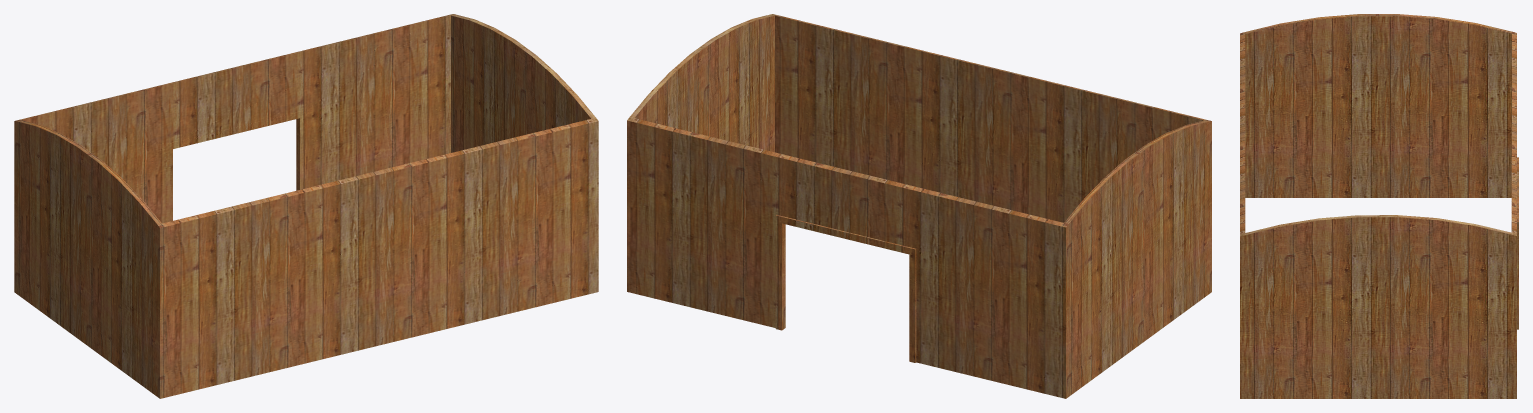
The model's file is barnwall.FBX.
3 views of the same model, side by side, from view 1: azimuth 30°, elevation 25°; view 2: azimuth 150°, elevation 25°; view 3: azimuth 270°, elevation 25° (orthographic). The views are drawn at different scales.
Visible parts, largest first — view 1: Barn; view 2: Barn; view 3: Barn.
Boxes of the visible parts, x1,y1,x2,y2 form: Barn: [14, 14, 598, 398]; Barn: [627, 14, 1211, 398]; Barn: [1240, 14, 1518, 398].
Size of the model in its own units: 557 by 232 by 323.
